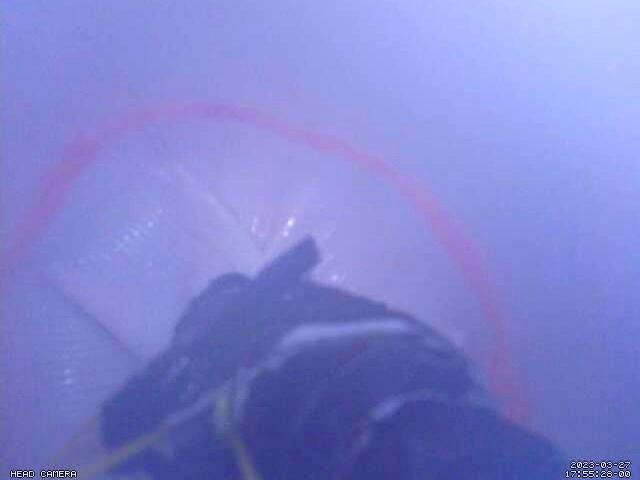head: (0, 100, 530, 427)
